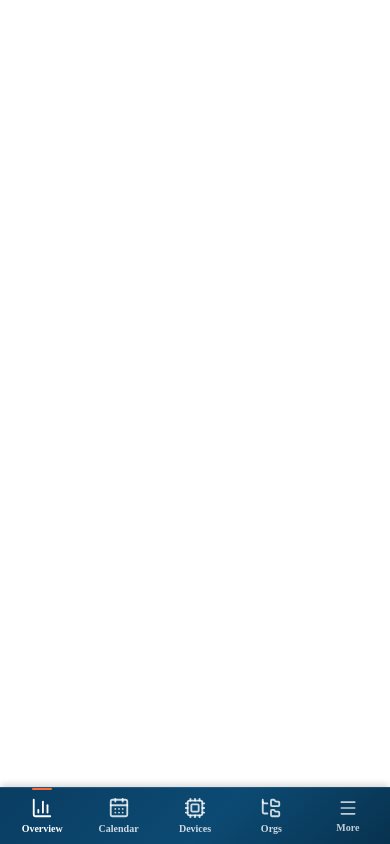
Test: platform console mobile navigation (T-09c, E26) › reaches every section from More, with the full name
The image size is (390, 844).
Step 1. Click the button with aria-label "More sections" → (348, 816), box [310, 788, 386, 843]
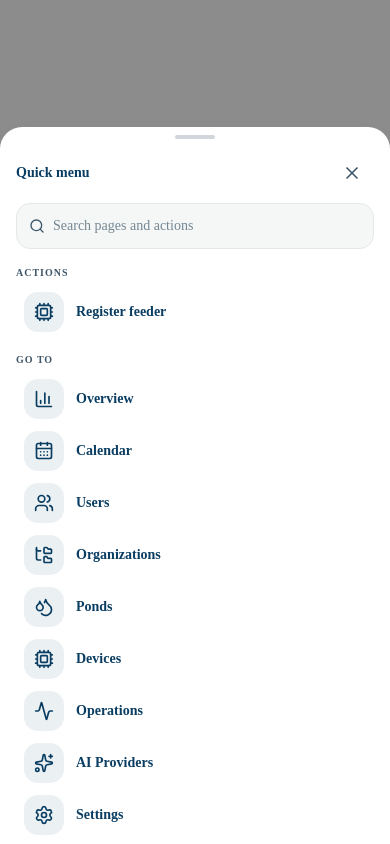
Result: the dialog "Quick menu" is shown
Result: the text "Users" is shown at [76, 493, 109, 513]
Result: the text "Organizations" is shown at [76, 545, 161, 565]
